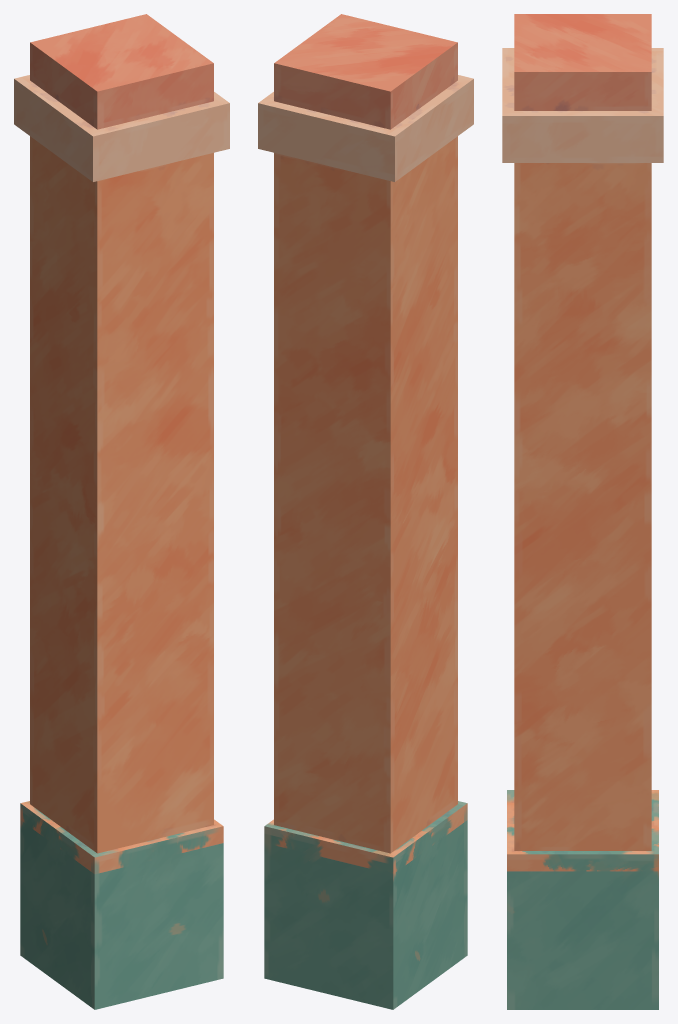
The model's file is corner2.bundle.fbx.
3 views of the same model, side by side, from view 1: azimuth 30°, elevation 25°; view 2: azimuth 150°, elevation 25°; view 3: azimuth 270°, elevation 25° (orthographic). The views are drawn at different scales.
Parts seen in each view (by area): view 1: corner2, corner2_s00, corner2_s02, corner2_s01, corner2_s03; view 2: corner2, corner2_s02, corner2_s01, corner2_s03, corner2_s00; view 3: corner2, corner2_s03, corner2_s02, corner2_s01, corner2_s00.
Part boxes in pixels (x1,y1,x2,y2): corner2: (14, 14, 229, 1009); corner2_s00: (30, 402, 213, 662); corner2_s02: (30, 537, 213, 852); corner2_s01: (30, 263, 213, 519); corner2_s03: (30, 136, 213, 327); corner2: (258, 14, 473, 1009); corner2_s02: (274, 586, 457, 852); corner2_s01: (274, 270, 457, 551); corner2_s03: (274, 136, 457, 306); corner2_s00: (275, 436, 457, 615); corner2: (502, 14, 663, 1009); corner2_s03: (514, 163, 651, 304); corner2_s02: (514, 557, 651, 850); corner2_s01: (514, 284, 651, 448); corner2_s00: (514, 418, 651, 596).
Bounding box in the file's own units: 1.88 × 12 × 1.88.
Materials: 1 (1 with a texture image).
